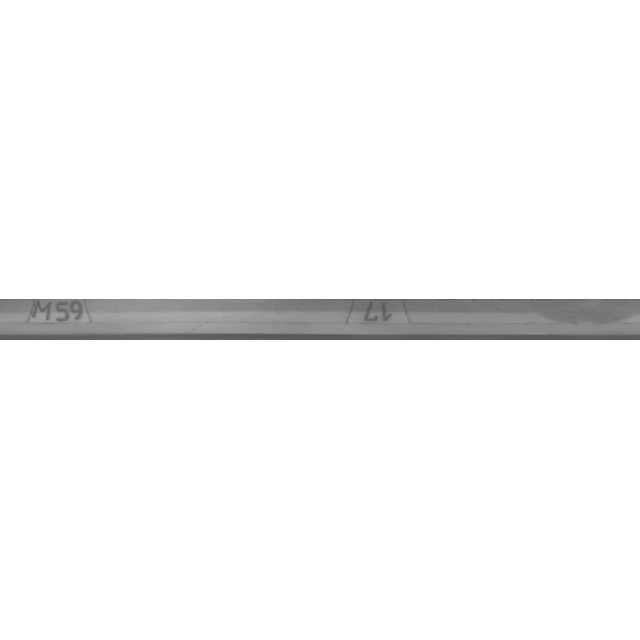mohao: (0, 270, 157, 370)
xuehao: (278, 270, 478, 370)
